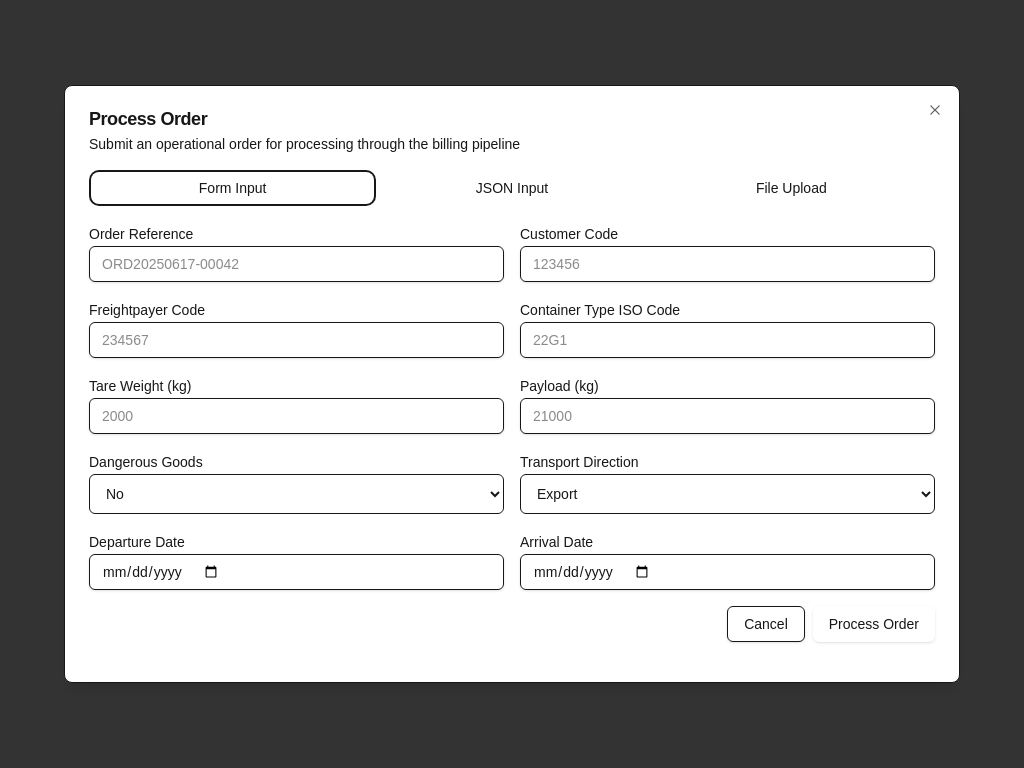
Test case: OrderProcessorForm › validates required fields
Click the button "Process Order": coordinates (874, 624) [813,606,935,642]
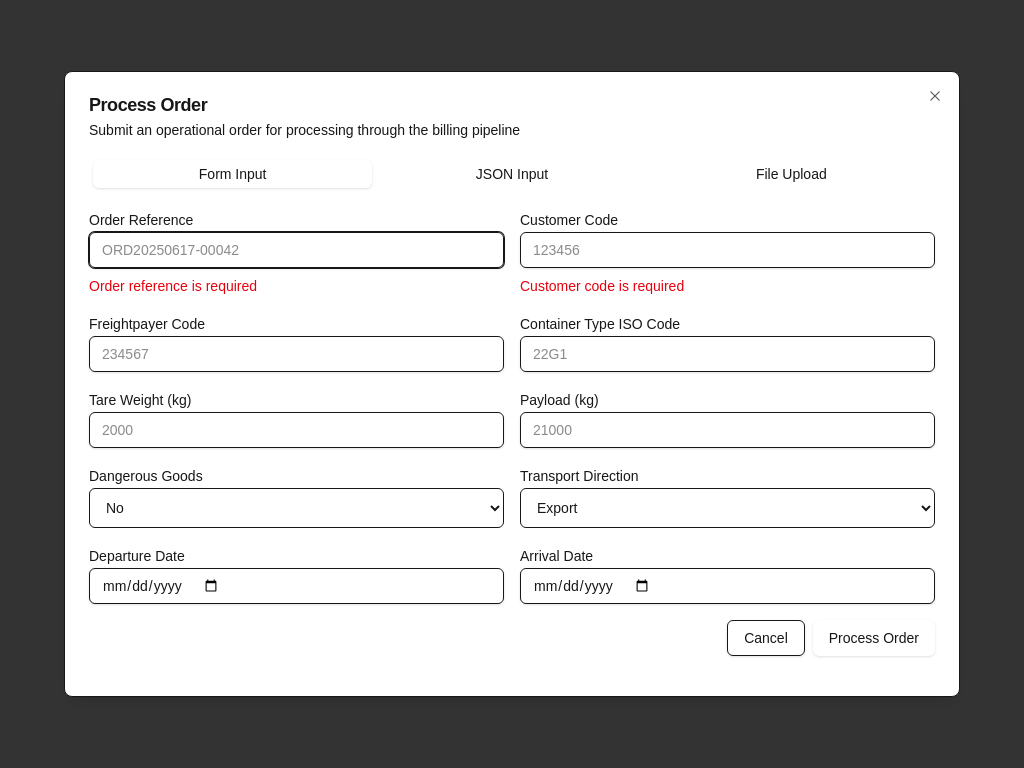
Expected: the text "Order reference is required" is shown, [89,278,257,294]
Expected: the text "Customer code is required" is shown, [520,278,684,294]
